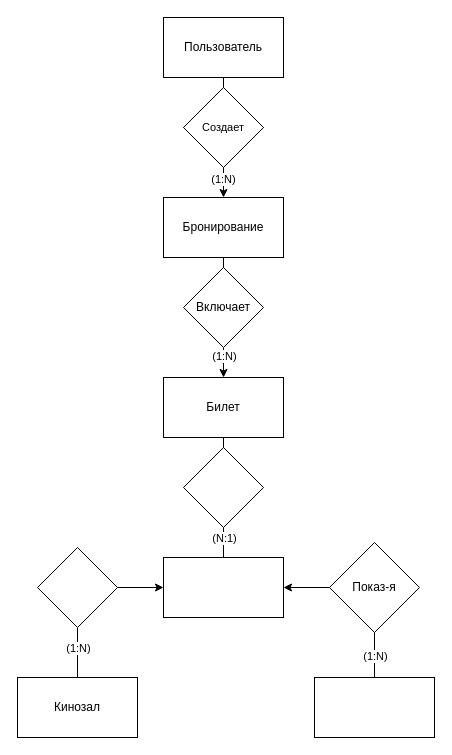
Some shapes in this 452 by 755 pixel diagram are drawn without their labels. The shapes that lost their labels are listed below. From the top down, each one's centre as x and y in pixels, then its label:
At [223,487]: "На сеанс".
At [77,587]: "Проводит".
At [223,587]: "Киносеанс".
At [374,707]: "Фильм".
